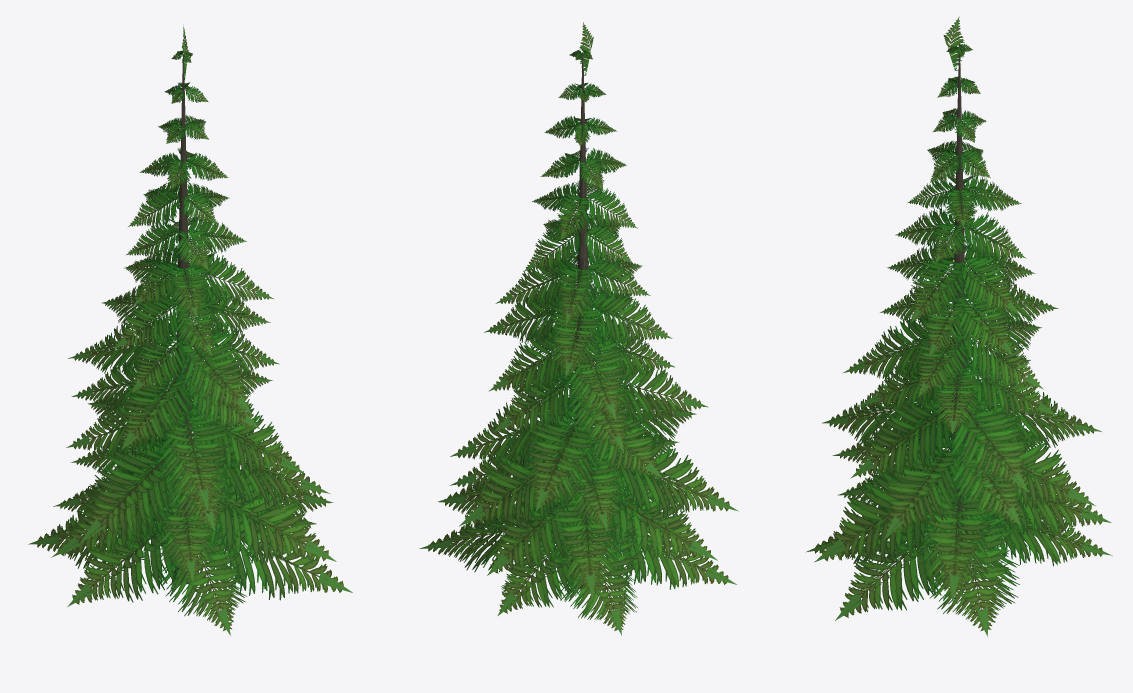
File: spruce_lod1.glb
3 renders of one model, left to right at view 1: azimuth 30°, elevation 25°; view 2: azimuth 150°, elevation 25°; view 3: azimuth 270°, elevation 25°, orthographic.
Visible parts, largest first — view 1: spruce; view 2: spruce; view 3: spruce.
Part boxes in pixels (left/top/right/bottom): spruce: left=28, top=24, right=352, bottom=635; spruce: left=419, top=22, right=738, bottom=635; spruce: left=806, top=16, right=1112, bottom=636.
Size of the model in its own units: 14.57 by 27.04 by 14.01.
Materials: 2 (2 with a texture image).
